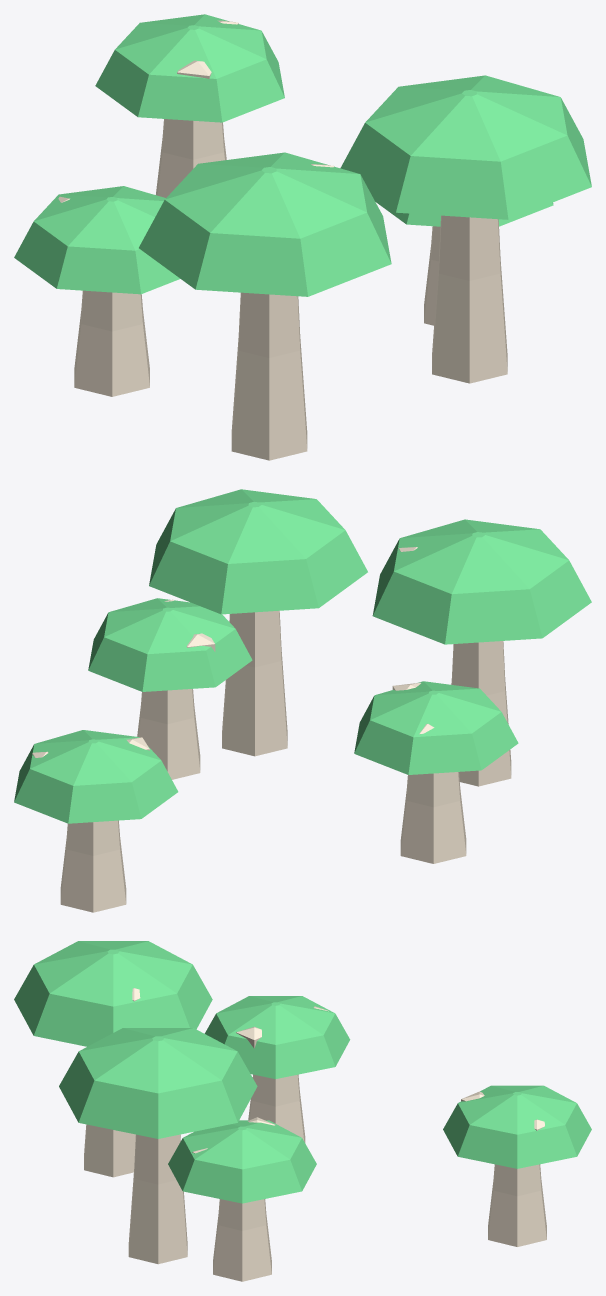
File: glowShrooms.glb
The picture shows the model from 3 angles, top to bottom: view 1: azimuth 30°, elevation 25°; view 2: azimuth 150°, elevation 25°; view 3: azimuth 270°, elevation 25°; orthographic projection. The views are drawn at different scales.
Visible parts, largest first — view 1: glowShrooms-m; view 2: glowShrooms-m; view 3: glowShrooms-m.
Boxes of the visible parts, box(x1,y1,x2,y2) form: glowShrooms-m: box(14, 14, 591, 460); glowShrooms-m: box(14, 489, 591, 912); glowShrooms-m: box(14, 941, 591, 1281).
Bounding box in the file's own units: 1.04 × 0.5488 × 1.36.
